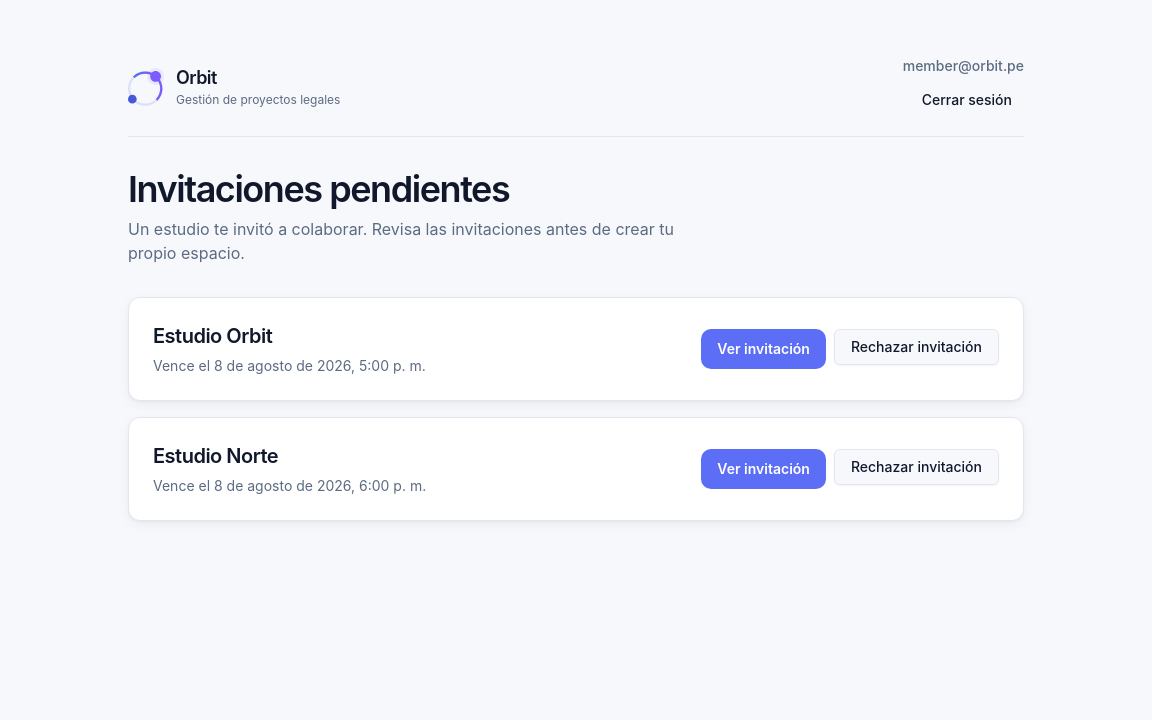
it: InvitationOnboardingPage › returns from confirmation without changing the invitation
This screenshot has width=1152, height=720.
Click the button with aria-label "Rechazar invitación de Estudio Orbit". click: (916, 347)
box: [834,329,999,365]
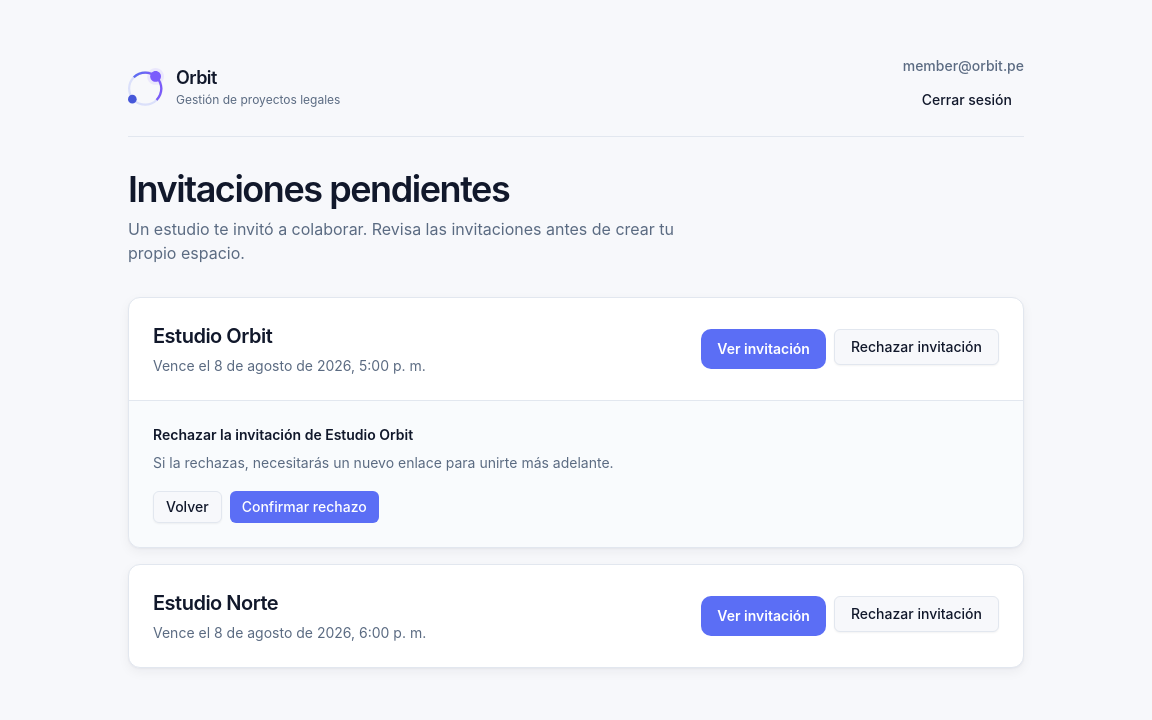
Click the button "Volver". click: (187, 507)
box: [153,491,222,523]
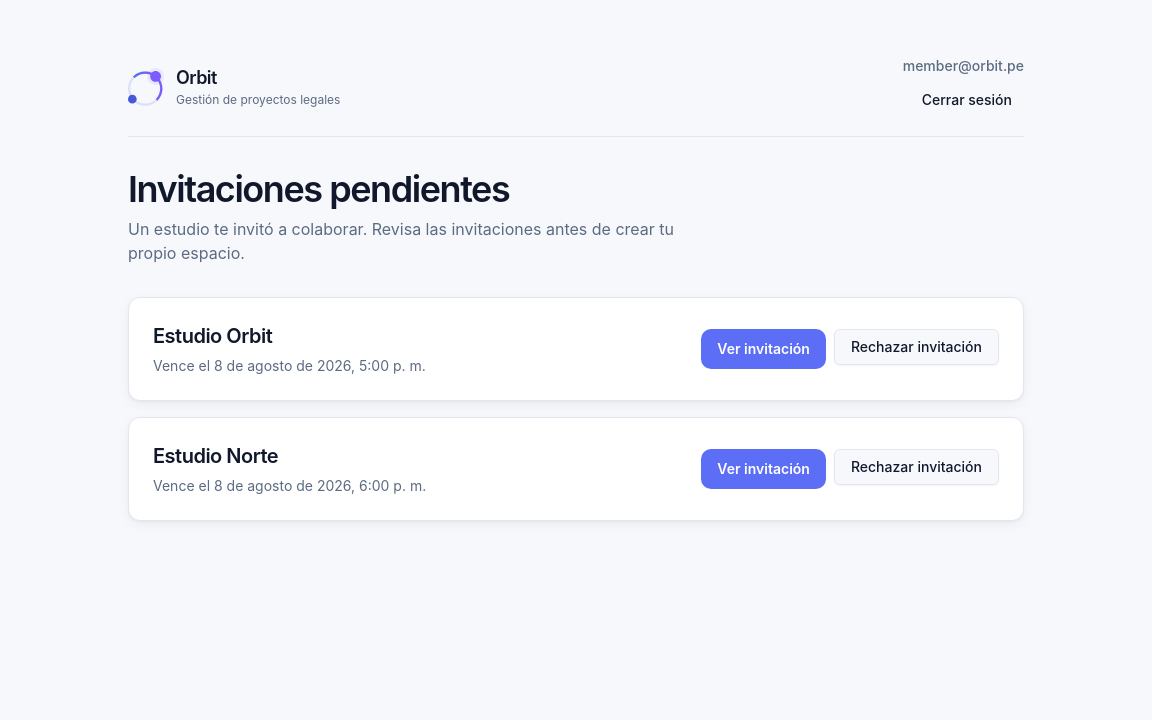
Now the button "Confirmar rechazo" is gone
